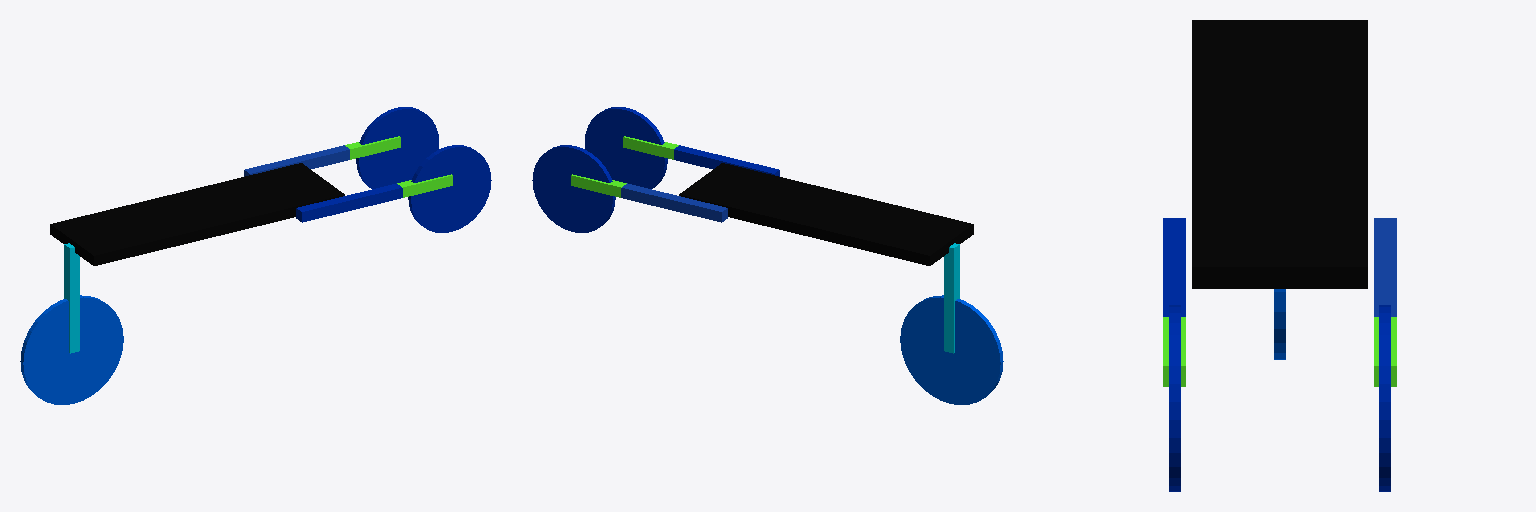
The robot description file, URDF, robot "robot":


<robot name="robot">
  <link name="base_footprint"></link>
  <joint name="base_joint" type="fixed">
    <parent link="base_footprint" />
    <child link="base_link" />
    <origin xyz="0 0 1" rpy="0 0 0" />
  </joint>

  <link name="base_link">
    <visual>
      <origin xyz="0 0 0" rpy="0 0 0" />
      <geometry>
        <box size="2.5 0.75 0.1" />
      </geometry>
      <material name="base_link-material">
        <color rgba="0.05 0.05 0.05 1" />
      </material>
    </visual>
    <collision>
      <origin xyz="0 0 0" rpy="0 0 0" />
      <geometry>
        <box size="2.5 0.75 0.1" />
      </geometry>
    </collision>
    <inertial>
      <origin xyz="0 0 0" rpy="0 0 0" />
      <mass value="100" />
      <inertia ixx="10" ixy="0" ixz="0" iyy="10" iyz="0" izz="10" />
    </inertial>
  </link>

  <joint name="base_link_to_hipFL" type="revolute">
    <parent link="base_link" />
    <child link="hipFL" />
    <origin xyz="0.75 0 0" rpy="0 0 0" />
    <axis xyz="0 1 0"/>
    <limit effort="1000.0" lower="-1" upper="1" velocity="0.5"/>
  </joint>

  <link name="hipFL">
    <visual>
      <origin xyz="0.5 0.45 0" rpy="0 0 0" />
      <geometry>
        <box size="1 0.1 0.1" />
      </geometry>
      <material name="hipFL-material">
        <color rgba="0.1 0.3 0.7 1" />
      </material>
    </visual>
    <collision>
      <origin xyz="0.5 0.45 0" rpy="0 0 0" />
      <geometry>
        <box size="1 0.1 0.1" />
      </geometry>
    </collision>
    <inertial>
      <origin xyz="0.5 0.45 0" rpy="0 0 0" />
      <mass value="5" />
      <inertia ixx="0.2" ixy="0" ixz="0" iyy="0.2" iyz="0" izz="0.2" />
    </inertial>
  </link>

  <joint name="hipFL_to_fourcheFL" type="revolute">
    <parent link="hipFL" />
    <child link="fourcheFL" />
    <origin xyz="1.25 0.45 0" rpy="0 0 0" />
    <axis xyz="-1 0 0"/>
    <limit effort="1000.0" lower="-1" upper="1" velocity="0.5"/>
  </joint>

  <link name="fourcheFL">
    <visual>
      <origin xyz="0 0 0" rpy="0 0 0" />
      <geometry>
        <box size="0.5 0.1 0.1" />
      </geometry>
      <material name="fourcheFL-material">
        <color rgba="0.4 1 0.2 1" />
      </material>
    </visual>
    <inertial>
      <origin xyz="0 0 0" rpy="0 0 0" />
      <mass value="5" />
      <inertia ixx="0.5" ixy="0" ixz="0" iyy="0.5" iyz="0" izz="0.5" />
    </inertial>
  </link>

  <joint name="fourcheFL_to_wheelFL" type="revolute">
    <parent link="fourcheFL" />
    <child link="wheelFL" />
    <origin xyz="0.25 0 -0.1" rpy="1.570796326794897 0 0" />
    <axis xyz="0 0 1"/>
    <limit effort="1000.0"/>
  </joint>

  <link name="wheelFL">
    <visual>
      <origin xyz="0 0 0" rpy="0 0 0" />
      <geometry>
        <cylinder radius="0.4" length="0.05" />
      </geometry>
      <material name="wheelFL-material">
        <color rgba="0 0.2 0.7 1" />
      </material>
    </visual>
    <collision>
      <origin xyz="0 0 0" rpy="0 0 0" />
      <geometry>
        <cylinder radius="0.4" length="0.05" />
      </geometry>
    </collision>
    <inertial>
      <origin xyz="0 0 0" rpy="0 0 0" />
      <mass value="5" />
      <inertia ixx="0.3" ixy="0" ixz="0" iyy="0.5" iyz="0" izz="0.3" />
    </inertial>
  </link>

  <joint name="base_link_to_hipFR" type="revolute">
    <parent link="base_link" />
    <child link="hipFR" />
    <origin xyz="0.75 0 0" rpy="0 0 0" />
    <axis xyz="0 1 0"/>
    <limit effort="1000.0" lower="-1" upper="1" velocity="0.5"/>
  </joint>

  <link name="hipFR">
    <visual>
      <origin xyz="0.5 -0.45 0" rpy="0 0 0" />
      <geometry>
        <box size="1 0.1 0.1" />
      </geometry>
      <material name="hipFR-material">
        <color rgba="0 0.2 0.7 1" />
      </material>
    </visual>
    <collision>
      <origin xyz="0.5 -0.45 0" rpy="0 0 0" />
      <geometry>
        <box size="1 0.1 0.1" />
      </geometry>
    </collision>
    <inertial>
      <origin xyz="0.5 -0.45 0" rpy="0 0 0" />
      <mass value="5" />
      <inertia ixx="0.5" ixy="0" ixz="0" iyy="1" iyz="0" izz="0.5" />
    </inertial>
  </link>

  <joint name="hipFR_to_fourcheFR" type="revolute">
    <parent link="hipFR" />
    <child link="fourcheFR" />
    <origin xyz="1.25 -0.45 0" rpy="0 0 0" />
    <axis xyz="-1 0 0"/>
    <limit effort="1000.0" lower="-1" upper="1" velocity="0.5"/>
  </joint>

  <link name="fourcheFR">
    <visual>
      <origin xyz="0 0 0" rpy="0 0 0" />
      <geometry>
        <box size="0.5 0.1 0.1" />
      </geometry>
      <material name="fourcheFR-material">
        <color rgba="0.4 1 0.2 1" />
      </material>
    </visual>
    <inertial>
      <origin xyz="0 0 0" rpy="0 0 0" />
      <mass value="5" />
      <inertia ixx="1" ixy="0" ixz="0" iyy="1" iyz="0" izz="1" />
    </inertial>
  </link>

  <joint name="fourcheFR_to_wheelFR" type="revolute">
    <parent link="fourcheFR" />
    <child link="wheelFR" />
    <origin xyz="0.25 0 -0.1" rpy="1.570796326794897 0 0" />
    <axis xyz="0 0 1"/>
    <limit effort="1000.0"/>
  </joint>

  <link name="wheelFR">
    <visual>
      <origin xyz="0 0 0" rpy="0 0 0" />
      <geometry>
        <cylinder radius="0.4" length="0.05" />
      </geometry>
      <material name="wheelFR-material">
        <color rgba="0 0.2 0.7 1" />
      </material>
    </visual>
    <collision>
      <origin xyz="0 0 0" rpy="0 0 0" />
      <geometry>
        <cylinder radius="0.4" length="0.05" />
      </geometry>
    </collision>
    <inertial>
      <origin xyz="0 0 0" rpy="0 0 0" />
      <mass value="5" />
      <inertia ixx="0.3" ixy="0" ixz="0" iyy="0.5" iyz="0" izz="0.3" />
    </inertial>
  </link>

  <joint name="base_link_to_cube5" type="fixed">
    <parent link="base_link" />
    <child link="cube5" />
    <origin xyz="-1.25 0 -0.5" rpy="0 0 0" />
  </joint>
  <link name="cube5">
    <visual>
      <origin xyz="0 0 0" rpy="0 0 0" />
      <geometry>
        <box size="0.1 0.1 1" />
      </geometry>
      <material name="cube5-material">
        <color rgba="0 0.8 0.9 1" />
      </material>
    </visual>
    <collision>
      <origin xyz="0 0 0" rpy="0 0 0" />
      <geometry>
        <box size="0.1 0.1 1" />
      </geometry>
    </collision>
    <inertial>
      <origin xyz="0 0 0" rpy="0 0 0" />
      <mass value="1" />
      <inertia ixx="0.2" ixy="0" ixz="0" iyy="0.2" iyz="0" izz="0.2" />
    </inertial>
  </link>

  <joint name="cube5_to_rearwheel" type="revolute">
    <parent link="cube5" />
    <child link="rearwheel" />
    <origin xyz="0 0 -0.5" rpy="1.570796326794897 0 0" />
    <axis xyz="0 0 1"/>
    <limit effort="1000.0"/>
  </joint>

  <link name="rearwheel">
    <visual>
      <origin xyz="0 0 0" rpy="0 0 0" />
      <geometry>
        <cylinder radius="0.5" length="0.05" />
      </geometry>
      <material name="rearwheel-material">
        <color rgba="0 0.4 0.9 1" />
      </material>
    </visual>
    <collision>
      <origin xyz="0 0 0" rpy="0 0 0" />
      <geometry>
        <cylinder radius="0.5" length="0.05" />
      </geometry>
    </collision>
    <inertial>
      <origin xyz="0 0 0" rpy="0 0 0" />
      <mass value="1" />
      <inertia ixx="0.3" ixy="0" ixz="0" iyy="0.5" iyz="0" izz="0.3" />
    </inertial>
  </link>
</robot>

--- Render facts (derived) ---
Views: 3 orthographic renders of the robot side by side, from view 1: azimuth 30°, elevation 25°; view 2: azimuth 150°, elevation 25°; view 3: azimuth 270°, elevation 25°.
Robot: robot — 10 links, 9 joints (7 revolute, 2 fixed); root link base_footprint; default pose: every joint at zero.
Visible links, largest first — view 1: base_link, rearwheel, wheelFR, wheelFL, hipFR, cube5, hipFL, fourcheFL, fourcheFR; view 2: base_link, rearwheel, wheelFL, wheelFR, hipFL, cube5, hipFR, fourcheFR, fourcheFL; view 3: base_link, wheelFL, wheelFR, hipFL, hipFR, rearwheel, fourcheFL, fourcheFR.
Boxes of the visible links, x1,y1,x2,y2 form: base_link: (50, 163, 344, 265); rearwheel: (20, 295, 123, 404); wheelFR: (408, 145, 491, 232); wheelFL: (356, 107, 438, 188); hipFR: (296, 183, 402, 222); cube5: (64, 243, 79, 353); hipFL: (244, 145, 349, 176); fourcheFL: (345, 136, 400, 159); fourcheFR: (397, 174, 452, 197); base_link: (679, 163, 973, 265); rearwheel: (900, 295, 1003, 404); wheelFL: (532, 145, 615, 232); wheelFR: (585, 107, 667, 188); hipFL: (621, 183, 727, 222); cube5: (944, 243, 959, 353); hipFR: (674, 145, 779, 176); fourcheFR: (623, 136, 678, 159); fourcheFL: (571, 174, 626, 197); base_link: (1192, 20, 1367, 288); wheelFL: (1379, 305, 1390, 491); wheelFR: (1169, 305, 1180, 491); hipFL: (1374, 218, 1396, 316); hipFR: (1163, 218, 1185, 316); rearwheel: (1274, 289, 1285, 359); fourcheFL: (1374, 317, 1396, 386); fourcheFR: (1163, 317, 1185, 386).
Size in the robot's own frame: 4.4 by 1 by 1.8 metres.
Geometry: primitives only (box / cylinder / sphere), no mesh files.